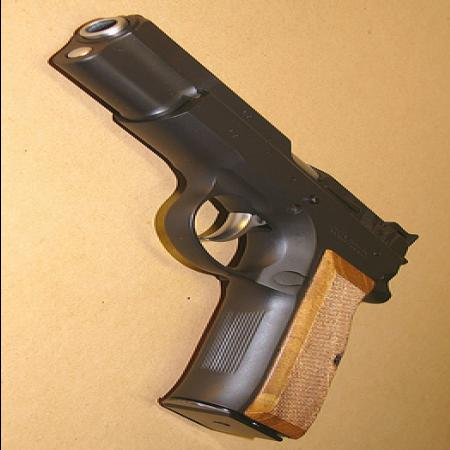Pistol: (57, 15, 420, 443)
